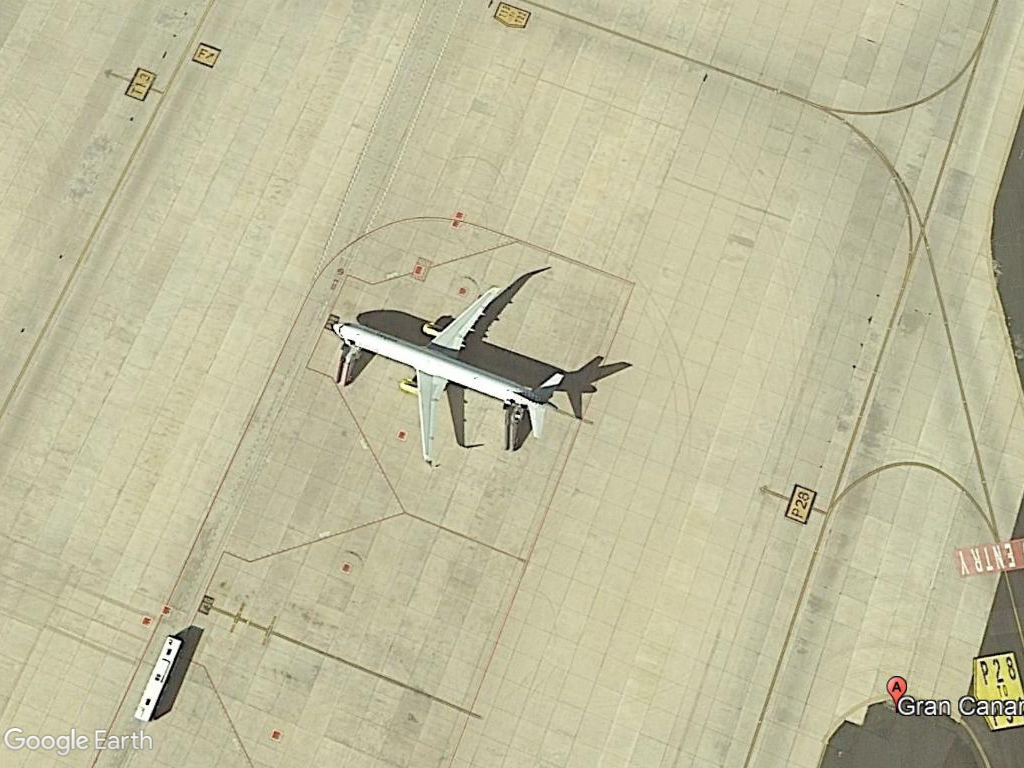airliner: (317, 278, 574, 473)
bus: (127, 630, 189, 727)
stairtruck: (496, 402, 527, 458), (332, 339, 359, 396)
